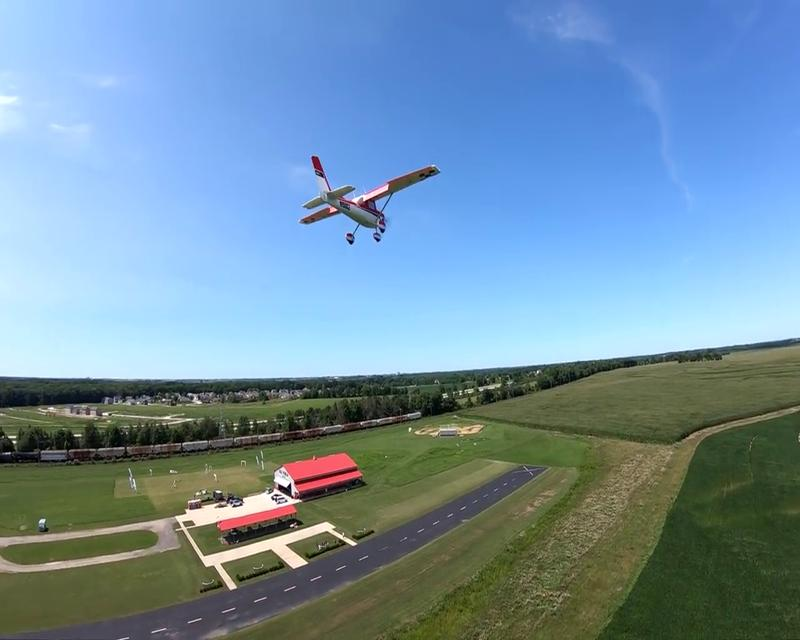UAV: (297, 156, 442, 246)
